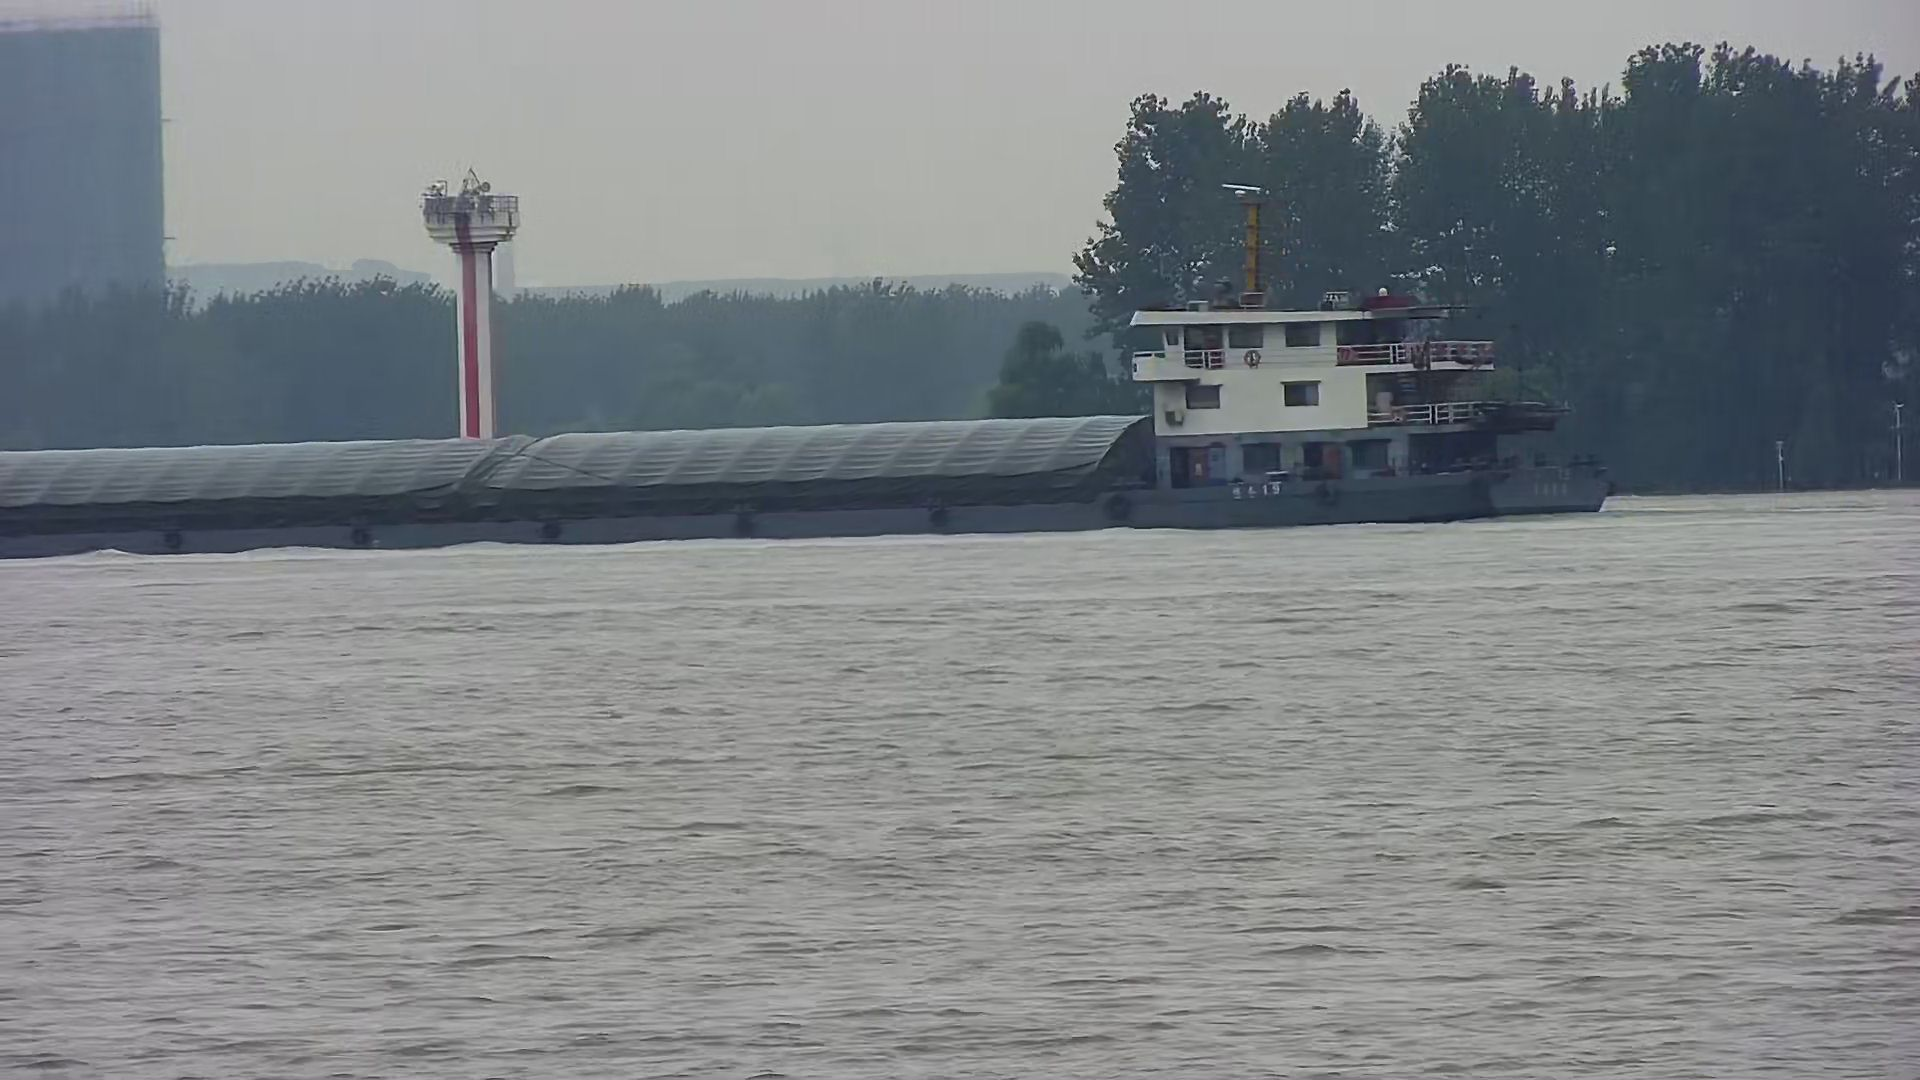ship: (1, 249, 1614, 563)
